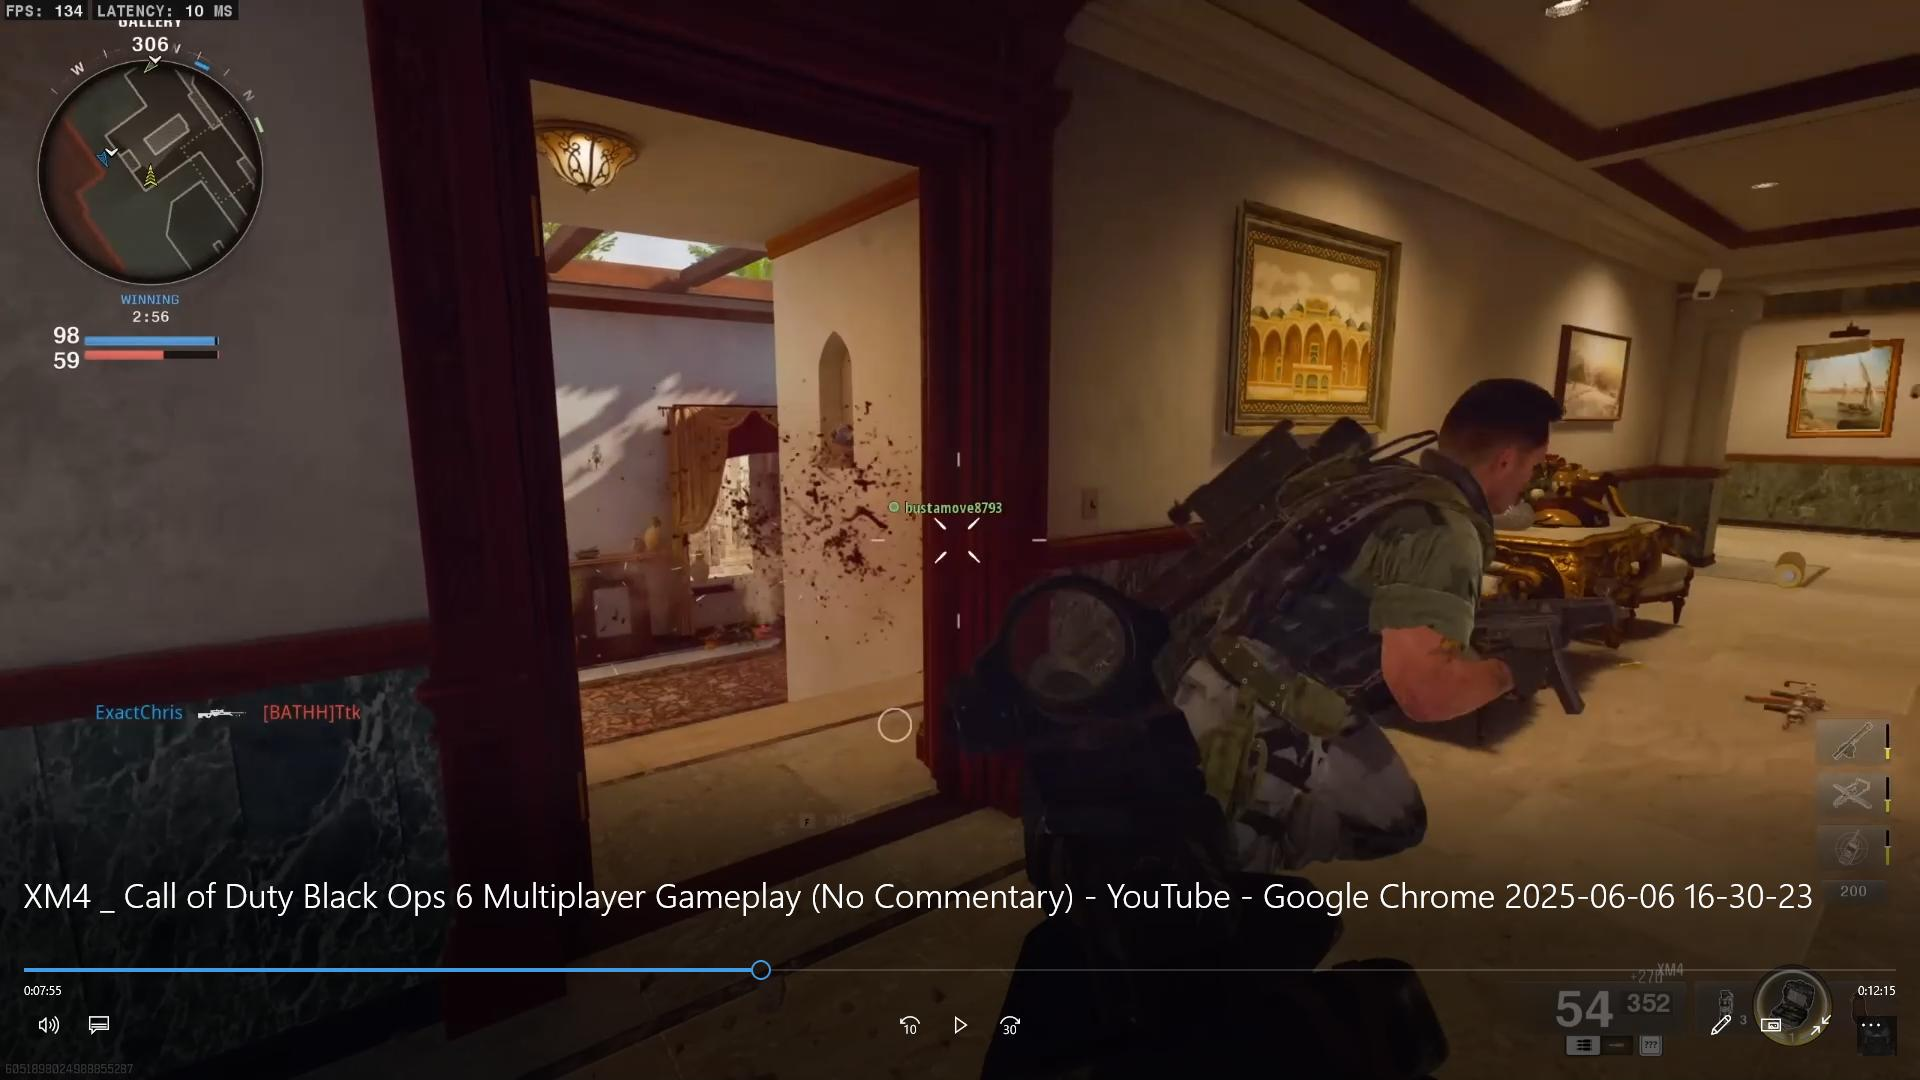Enemy: (1178, 336, 1659, 781)
